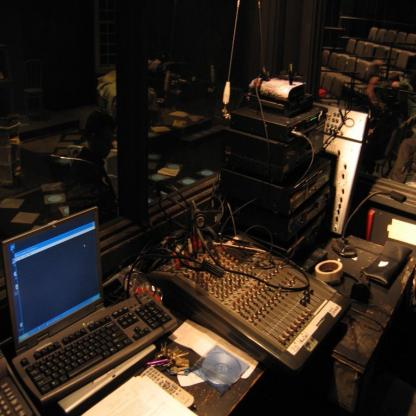board: (1, 206, 156, 416)
